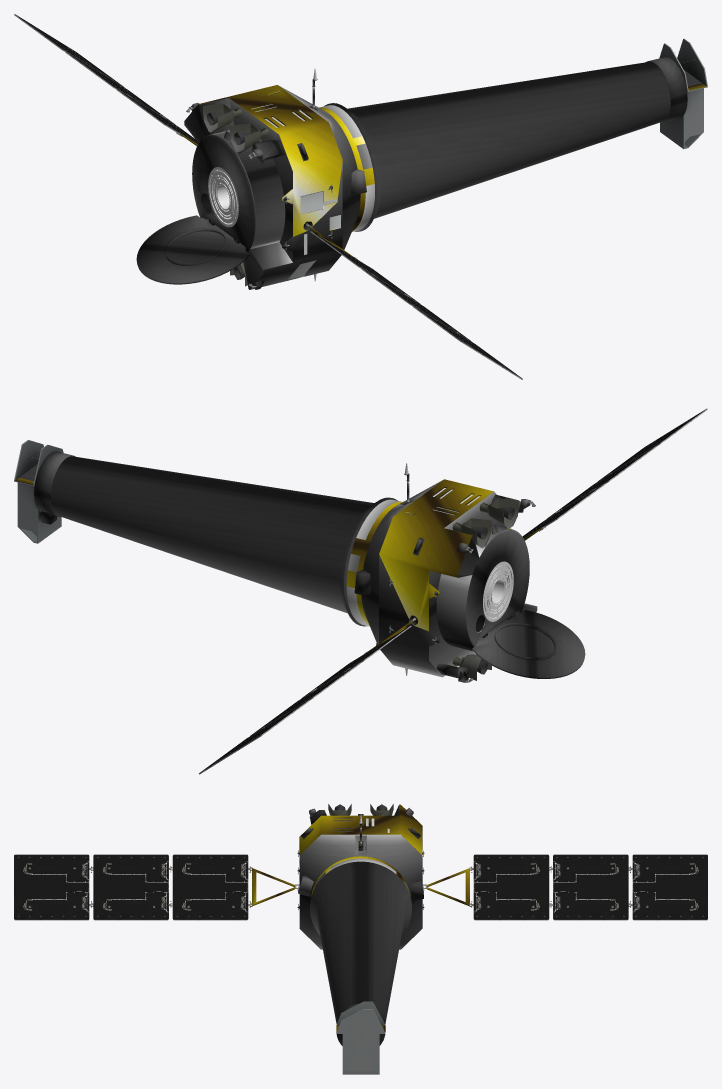
File: chandra.glb
3 renders of one model, top to bottom at view 1: azimuth 30°, elevation 25°; view 2: azimuth 150°, elevation 25°; view 3: azimuth 270°, elevation 25°, orthographic. The views are drawn at different scales.
Parts seen in each view (by area): view 1: foil_silver, tex_01, foil_gold, AO_HRMA; view 2: foil_silver, foil_gold, tex_01, AO_HRMA; view 3: tex_01, foil_silver, foil_gold.
Part boxes in pixels (left/top/right/bottom): foil_silver: left=136, top=57, right=687, bottom=289; tex_01: left=14, top=14, right=707, bottom=379; foil_gold: left=180, top=83, right=706, bottom=256; AO_HRMA: left=208, top=167, right=238, bottom=227; foil_silver: left=34, top=451, right=585, bottom=682; foil_gold: left=15, top=478, right=541, bottom=651; tex_01: left=14, top=408, right=707, bottom=774; AO_HRMA: left=483, top=561, right=513, bottom=621; tex_01: left=14, top=804, right=707, bottom=1074; foil_silver: left=297, top=805, right=424, bottom=1045; foil_gold: left=252, top=804, right=469, bottom=1032.
Size of the model in its own units: 13.78 by 5.12 by 19.51.
4 materials, 3 textured.
